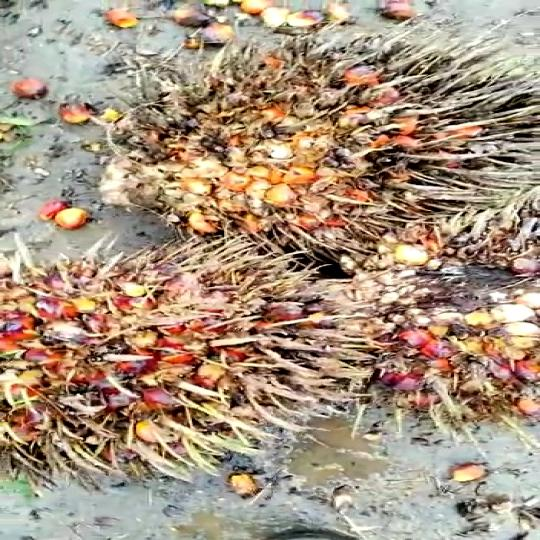terlalu masak: (0, 230, 374, 501), (86, 39, 540, 241)
